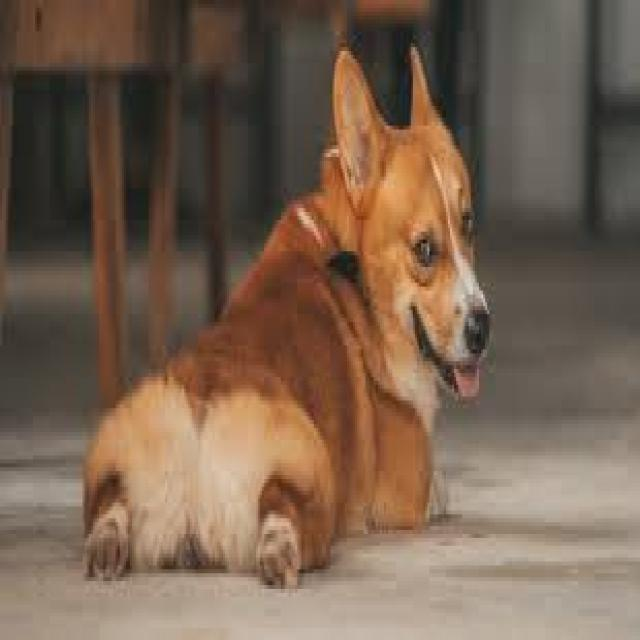CORGI: (86, 30, 494, 602)
